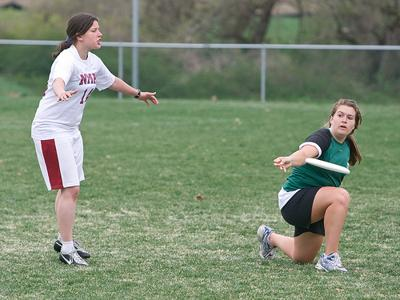person: (256, 98, 364, 273)
